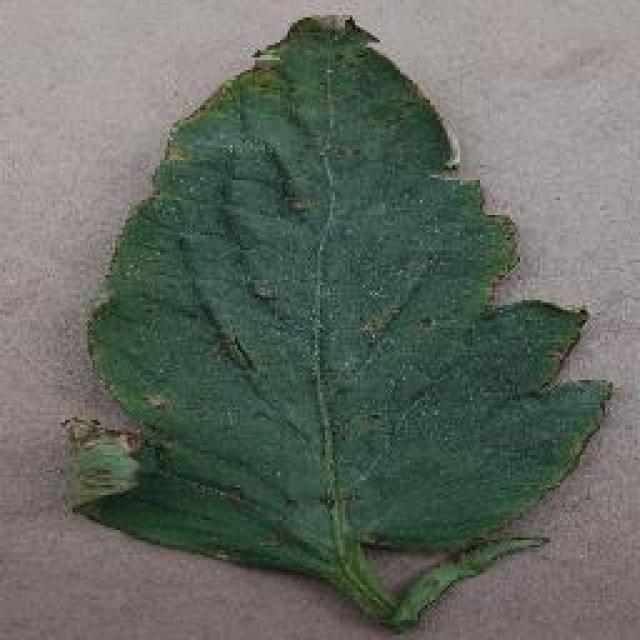Tom_Bacterial_spot: (55, 388, 190, 510), (190, 256, 295, 392)
